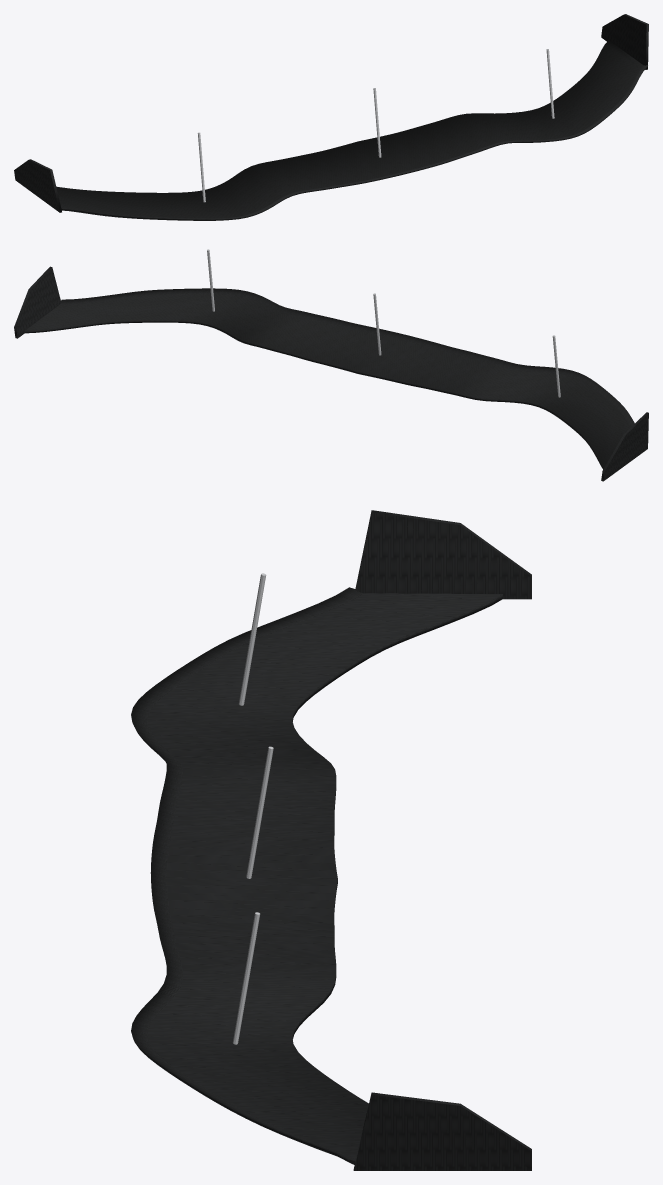
The model's file is WB10_widebody_lip.glb.
3 views of the same model, one above another, from view 1: azimuth 30°, elevation 25°; view 2: azimuth 150°, elevation 25°; view 3: azimuth 270°, elevation 25° (orthographic). The views are drawn at different scales.
Parts seen in each view (by area): view 1: MOD_ND_WB10_blade, MOD_ND_WB10_fence_L, MOD_ND_WB10_fence_R; view 2: MOD_ND_WB10_blade, MOD_ND_WB10_fence_L, MOD_ND_WB10_fence_R; view 3: MOD_ND_WB10_blade, MOD_ND_WB10_fence_R, MOD_ND_WB10_fence_L.
Part boxes in pixels (x1,y1,x2,y2): MOD_ND_WB10_blade: [56, 40, 647, 220]; MOD_ND_WB10_fence_L: [601, 14, 648, 69]; MOD_ND_WB10_fence_R: [14, 159, 61, 212]; MOD_ND_WB10_blade: [24, 288, 634, 469]; MOD_ND_WB10_fence_L: [14, 266, 60, 338]; MOD_ND_WB10_fence_R: [601, 412, 648, 481]; MOD_ND_WB10_blade: [131, 587, 502, 1164]; MOD_ND_WB10_fence_R: [355, 510, 531, 599]; MOD_ND_WB10_fence_L: [353, 1092, 531, 1170].
Size of the model in its own units: 1.55 by 0.171 by 0.4501.
2 materials, 1 textured.
